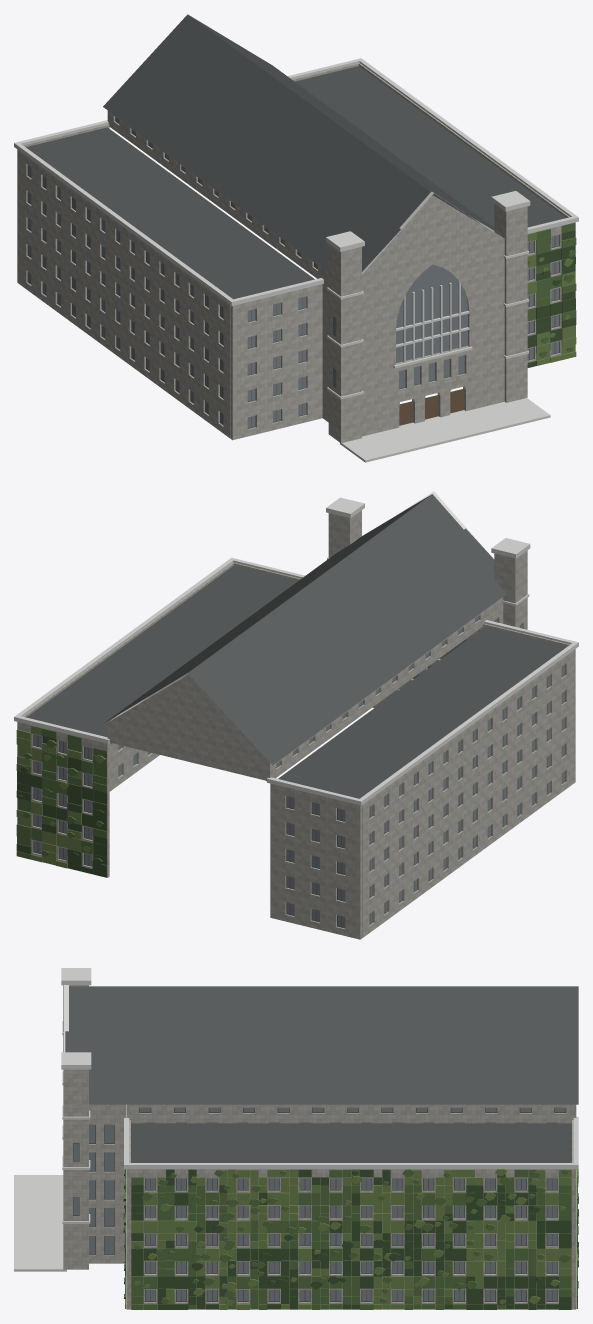
3 views of the same model, one above another, from view 1: azimuth 30°, elevation 25°; view 2: azimuth 150°, elevation 25°; view 3: azimuth 270°, elevation 25° (orthographic). The views are drawn at different scales.
Visible parts, largest first — view 1: auditorium__stone, auditorium__roof_dark, auditorium__stone_trim, auditorium__glass_window, auditorium__frame_dark, auditorium__ivy_dark, auditorium__ivy, auditorium__ivy_light, auditorium__door_wood; view 2: auditorium__roof_dark, auditorium__stone, auditorium__stone_trim, auditorium__glass_window, auditorium__ivy, auditorium__ivy_dark, auditorium__ivy_light, auditorium__frame_dark; view 3: auditorium__roof_dark, auditorium__stone, auditorium__ivy, auditorium__ivy_light, auditorium__ivy_dark, auditorium__glass_window, auditorium__stone_trim, auditorium__frame_dark.
Part boxes in pixels (left/top/right/bottom): auditorium__stone: left=17, top=63, right=575, bottom=443; auditorium__roof_dark: left=26, top=14, right=565, bottom=299; auditorium__stone_trim: left=14, top=58, right=578, bottom=462; auditorium__glass_window: left=28, top=117, right=558, bottom=428; auditorium__frame_dark: left=27, top=117, right=559, bottom=428; auditorium__ivy_dark: left=527, top=230, right=576, bottom=367; auditorium__ivy: left=527, top=222, right=576, bottom=357; auditorium__ivy_light: left=527, top=232, right=576, bottom=365; auditorium__door_wood: left=399, top=388, right=464, bottom=425; auditorium__roof_dark: left=26, top=494, right=566, bottom=798; auditorium__stone: left=17, top=510, right=575, bottom=939; auditorium__stone_trim: left=14, top=491, right=578, bottom=805; auditorium__glass_window: left=34, top=615, right=564, bottom=927; auditorium__ivy: left=16, top=728, right=107, bottom=859; auditorium__ivy_dark: left=16, top=736, right=107, bottom=877; auditorium__ivy_light: left=16, top=725, right=105, bottom=868; auditorium__frame_dark: left=33, top=618, right=565, bottom=928; auditorium__roof_dark: left=65, top=986, right=578, bottom=1162; auditorium__stone: left=63, top=985, right=576, bottom=1309; auditorium__ivy: left=124, top=1169, right=578, bottom=1309; auditorium__ivy_light: left=124, top=1169, right=578, bottom=1309; auditorium__ivy_dark: left=123, top=1169, right=578, bottom=1309; auditorium__glass_window: left=73, top=1107, right=565, bottom=1301; auditorium__stone_trim: left=14, top=968, right=578, bottom=1271; auditorium__frame_dark: left=73, top=1107, right=566, bottom=1301.
Bounding box in the file's own units: 49.15 × 31 × 66.23.
Materials: 9 (1 with a texture image).
